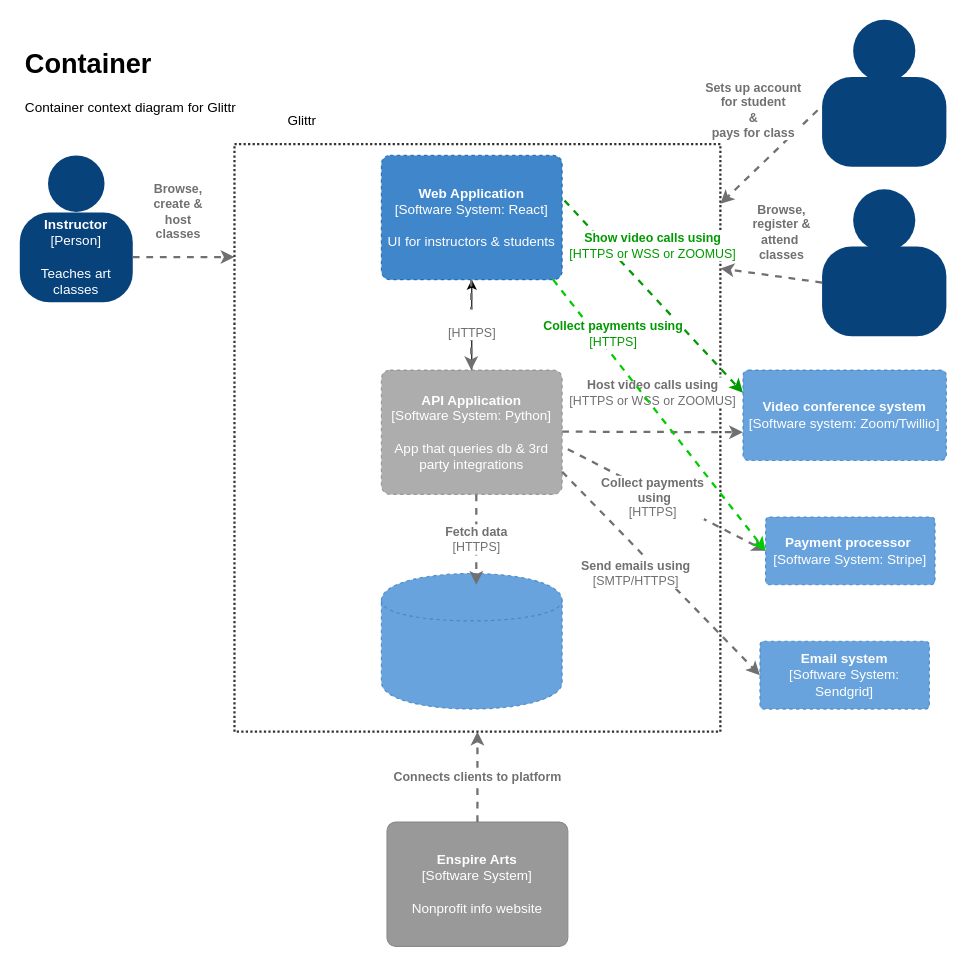
This 966x966 diagram has some shape labels left out. Each missing label, with the box of its shape:
Database [Container: PostgresQL] Stores users, payment data, classes, schedules: (380, 572, 562, 709)
Parent [Person]: (821, 76, 946, 167)
Student [Person] Attends art classes: (821, 245, 946, 336)
